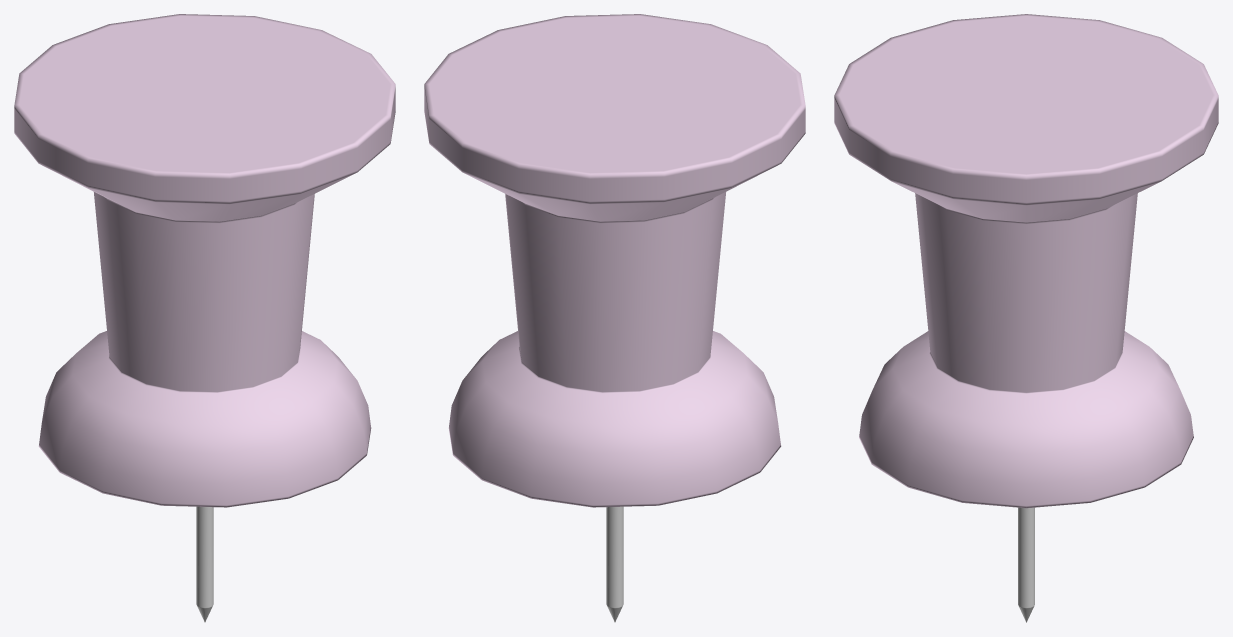
Rendered from PushPin.glb.
3 renders of one model, left to right at view 1: azimuth 30°, elevation 25°; view 2: azimuth 150°, elevation 25°; view 3: azimuth 270°, elevation 25°, orthographic.
Visible parts, largest first — view 1: pinTop, pinNeedle; view 2: pinTop, pinNeedle; view 3: pinTop, pinNeedle.
Boxes of the visible parts, x1,y1,x2,y2 form: pinTop: (14,14,395,507); pinNeedle: (196,506,213,622); pinTop: (424,14,805,507); pinNeedle: (606,506,623,622); pinTop: (834,14,1218,508); pinNeedle: (1018,507,1034,622).
Size of the model in its own units: 3.39 by 5.14 by 3.39.
